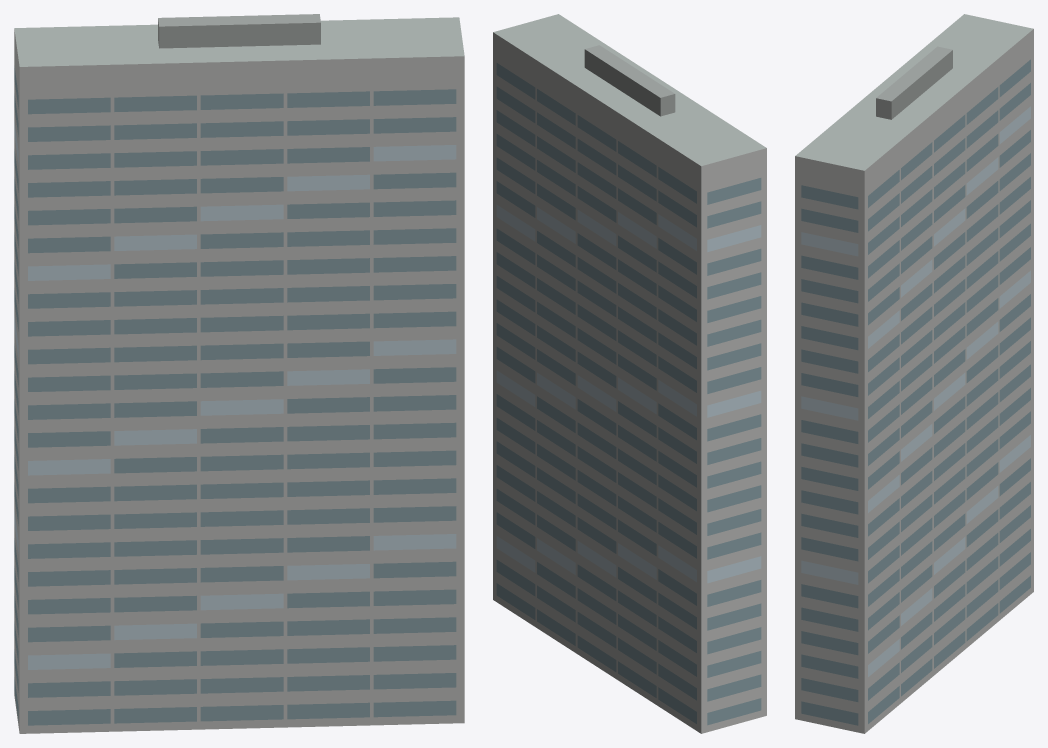
The model's file is fallback-olympic-athletes-village-301.glb.
The picture shows the model from 3 angles, left to right: view 1: azimuth 30°, elevation 25°; view 2: azimuth 150°, elevation 25°; view 3: azimuth 270°, elevation 25°; orthographic projection. The views are drawn at different scales.
Visible parts, largest first — view 1: fallback-olympic-athletes-village-301; view 2: fallback-olympic-athletes-village-301; view 3: fallback-olympic-athletes-village-301.
Part boxes in pixels (x1,y1,x2,y2): fallback-olympic-athletes-village-301: (14, 14, 464, 733); fallback-olympic-athletes-village-301: (493, 14, 766, 733); fallback-olympic-athletes-village-301: (795, 14, 1033, 733).
Size of the model in its own units: 43.73 by 75.6 by 28.13.
